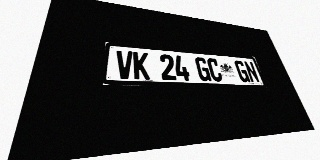2: (159, 54, 176, 80)
4: (173, 55, 190, 81)
C: (206, 58, 223, 82)
G: (194, 57, 212, 81), (233, 60, 251, 82)
K: (133, 52, 150, 80)
N: (243, 61, 260, 83)
V: (116, 50, 133, 79)
